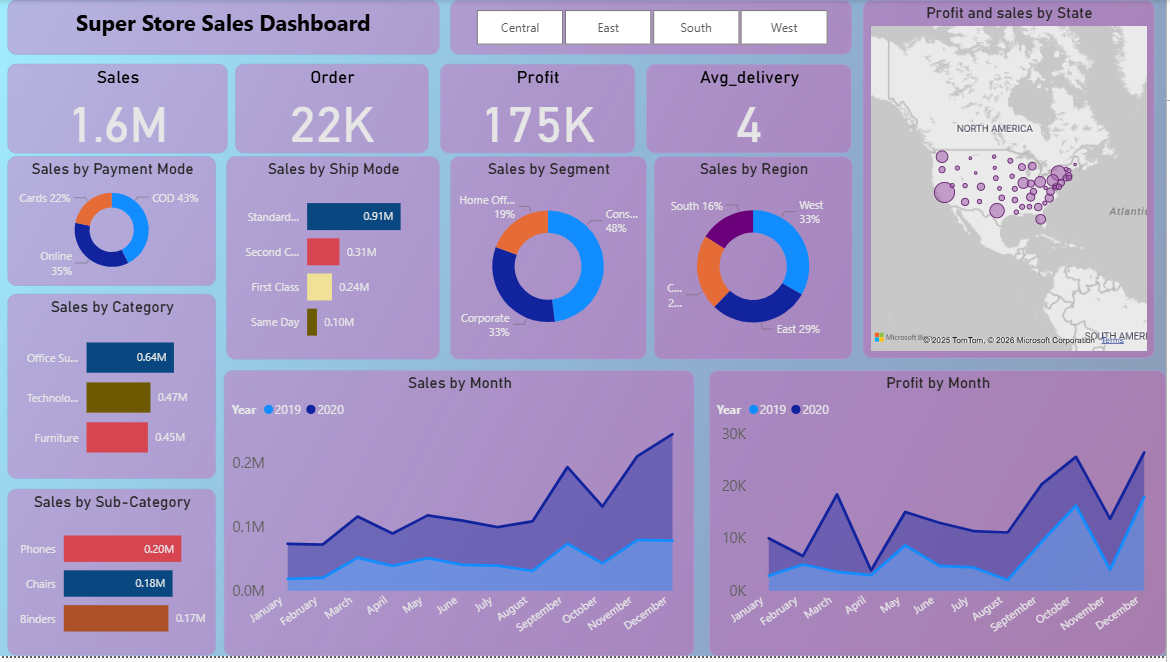

What the dashboard file says about the page in this screenshot:
{"tool":"powerbi","page":{"name":"Dashboard","canvas":[1280,720],"ordinal":0},"visuals":[{"type":"barChart","title":" Sales by Category","fields":{"Category":["saels_data.Category"],"Y":["Sum(saels_data.Sales)"]},"box":[8.6,322.9,228.6,202.9],"z":0},{"type":"barChart","title":" Sales by Sub-Category","fields":{"Y":["Sum(saels_data.Sales)"],"Category":["saels_data.Sub-Category"]},"box":[8.6,537.1,228.6,182.9],"z":1000},{"type":"barChart","title":"Sales by Ship Mode","fields":{"Y":["Sum(saels_data.Sales)"],"Category":["saels_data.Ship Mode"]},"box":[248.6,171.4,234.3,222.9],"z":2000},{"type":"stackedAreaChart","title":" Sales by Month ","fields":{"Y":["Sum(saels_data.Sales)"],"Series":["saels_data.Order Date.Variation.Date Hierarchy.Year"],"Category":["saels_data.Order Date.Variation.Date Hierarchy.Month","saels_data.Order Date.Variation.Date Hierarchy.Day"]},"box":[245.7,405.7,517.1,314.3],"z":3000},{"type":"stackedAreaChart","title":" Profit by Month ","fields":{"Series":["saels_data.Order Date.Variation.Date Hierarchy.Year"],"Category":["saels_data.Order Date.Variation.Date Hierarchy.Month","saels_data.Order Date.Variation.Date Hierarchy.Day"],"Y":["Sum(saels_data.Profit)"]},"box":[778,406.2,502.2,314.2],"z":4000},{"type":"map","title":" Profit and sales by State","fields":{"Category":["saels_data.State"],"Size":["Sum(saels_data.Row ID+O6G3A1:R6)"]},"box":[946.8,0,321.1,393.8],"z":5000},{"type":"donutChart","title":"Sales by Segment","fields":{"Category":["saels_data.Segment"],"Y":["Sum(saels_data.Sales)"]},"box":[494.3,171.4,215.7,222.9],"z":6000},{"type":"donutChart","title":" Sales by Region","fields":{"Y":["Sum(saels_data.Sales)"],"Category":["saels_data.Region"]},"box":[717.1,171.4,218.6,222.9],"z":7000},{"type":"donutChart","title":"Sales by Payment Mode","fields":{"Category":["saels_data.Payment Mode"],"Y":["Sum(saels_data.Sales)"]},"box":[8.2,171.5,229.2,142.7],"z":8000},{"type":"slicer","fields":{"Values":["saels_data.Region"]},"box":[494,0,441.9,60.4],"z":9000},{"type":"textbox","box":[8.6,0,474.3,60],"z":10000},{"type":"card","title":"Sales","fields":{"Values":["Sum(saels_data.Sales)"]},"box":[8.6,70,241.4,98.6],"z":11000},{"type":"card","title":"Order","fields":{"Values":["Sum(saels_data.Quantity)"]},"box":[258.6,70,212.9,98.6],"z":12000},{"type":"card","title":"Avg_delivery","fields":{"Values":["Avg(saels_data.AvgDelivery)"]},"box":[710,70,225.7,98.6],"z":13000},{"type":"card","title":"Profit","fields":{"Values":["Sum(saels_data.Profit)"]},"box":[482.9,70,214.3,98.6],"z":14000}]}

Visuals, with their boxes in screenshot pixels (x1, y1, x2, y2), scaled from the page's 1280x720 canvas onto the 1170x662 screenshot:
" Sales by Category" barChart: Rect(8, 297, 217, 483)
" Sales by Sub-Category" barChart: Rect(8, 494, 217, 661)
"Sales by Ship Mode" barChart: Rect(227, 158, 441, 363)
" Sales by Month " stackedAreaChart: Rect(225, 373, 697, 661)
" Profit by Month " stackedAreaChart: Rect(711, 373, 1169, 661)
" Profit and sales by State" map: Rect(865, 0, 1159, 362)
"Sales by Segment" donutChart: Rect(452, 158, 649, 363)
" Sales by Region" donutChart: Rect(655, 158, 855, 363)
"Sales by Payment Mode" donutChart: Rect(7, 158, 217, 289)
slicer - saels_data.Region: Rect(452, 0, 855, 56)
textbox: Rect(8, 0, 441, 55)
"Sales" card: Rect(8, 64, 229, 155)
"Order" card: Rect(236, 64, 431, 155)
"Avg_delivery" card: Rect(649, 64, 855, 155)
"Profit" card: Rect(441, 64, 637, 155)
